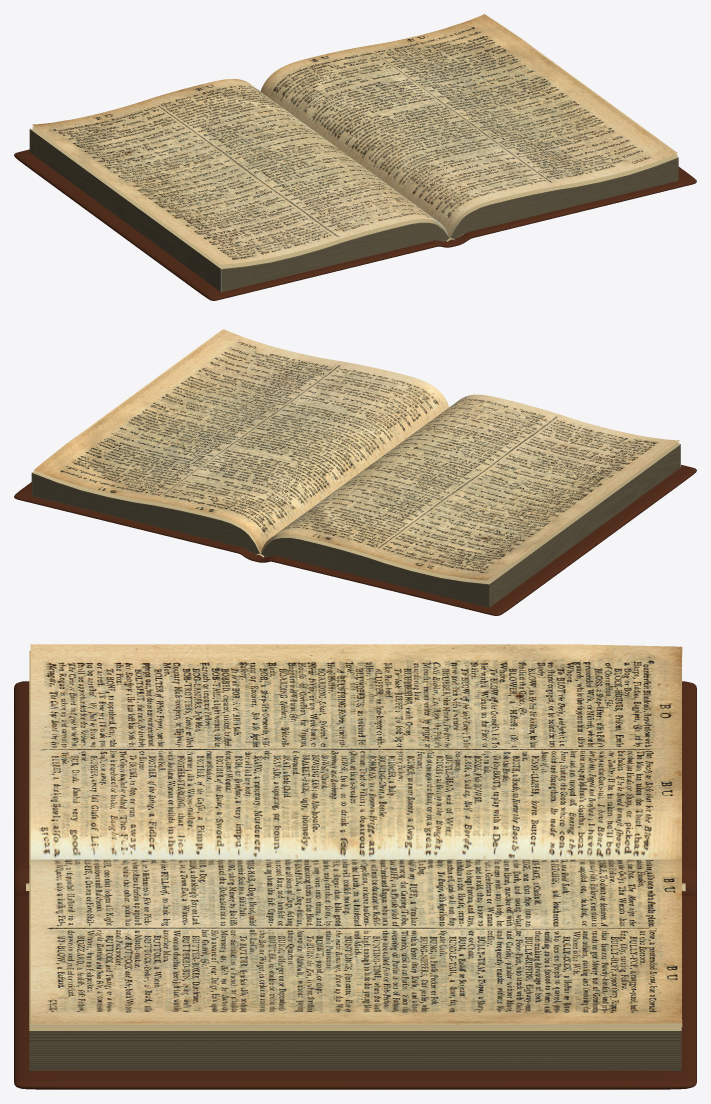
Rendered from Book.FBX.
3 views of the same model, one above another, from view 1: azimuth 30°, elevation 25°; view 2: azimuth 150°, elevation 25°; view 3: azimuth 270°, elevation 25° (orthographic). The views are drawn at different scales.
Visible parts, largest first — view 1: page_top_right, page_top_left, Book_Cover_base, lower_left, lower_right, Side_left, page_top_left_2, page_top_right_2; view 2: page_top_right, page_top_left, Book_Cover_base, lower_left, lower_right, Side_left, page_top_left_2, page_top_right_2; view 3: page_top_left, page_top_right, side_right, Book_Cover_base, page_top_right_2, lower_right.
Part boxes in pixels (x1,y1,x2,y2): page_top_right: [260, 14, 677, 237]; page_top_left: [32, 79, 449, 264]; Book_Cover_base: [14, 149, 696, 300]; lower_left: [30, 128, 449, 292]; lower_right: [449, 156, 678, 238]; Side_left: [29, 129, 220, 291]; page_top_left_2: [32, 126, 447, 266]; page_top_right_2: [450, 154, 677, 236]; page_top_right: [34, 329, 449, 552]; page_top_left: [261, 394, 679, 580]; Book_Cover_base: [14, 465, 696, 615]; lower_left: [261, 444, 680, 607]; lower_right: [31, 470, 259, 554]; Side_left: [489, 444, 680, 607]; page_top_left_2: [261, 442, 679, 582]; page_top_right_2: [34, 471, 260, 553]; page_top_left: [30, 644, 682, 859]; page_top_right: [30, 859, 682, 1024]; side_right: [29, 1031, 681, 1070]; Book_Cover_base: [14, 681, 696, 1089]; page_top_right_2: [30, 1023, 682, 1028]; lower_right: [29, 865, 681, 1030].
Size of the model in its own units: 54.28 by 3.78 by 38.64.
Materials: 7 (5 with a texture image).
